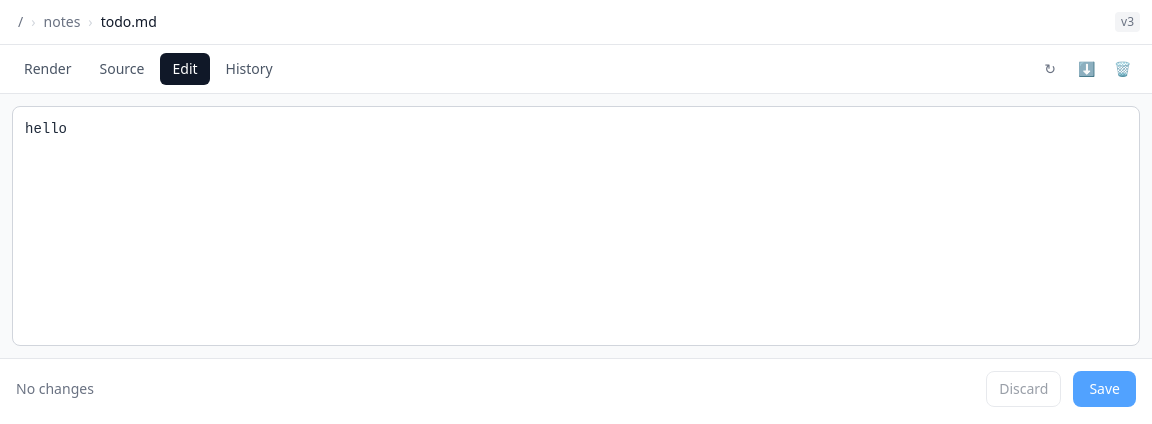
Scenario: VfsFilePanel › editing › saves, reloads and returns to the rendered view
Replace the text in the text box named "File content" with "saved text" at (576, 226), box 12,106 -> 1140,346
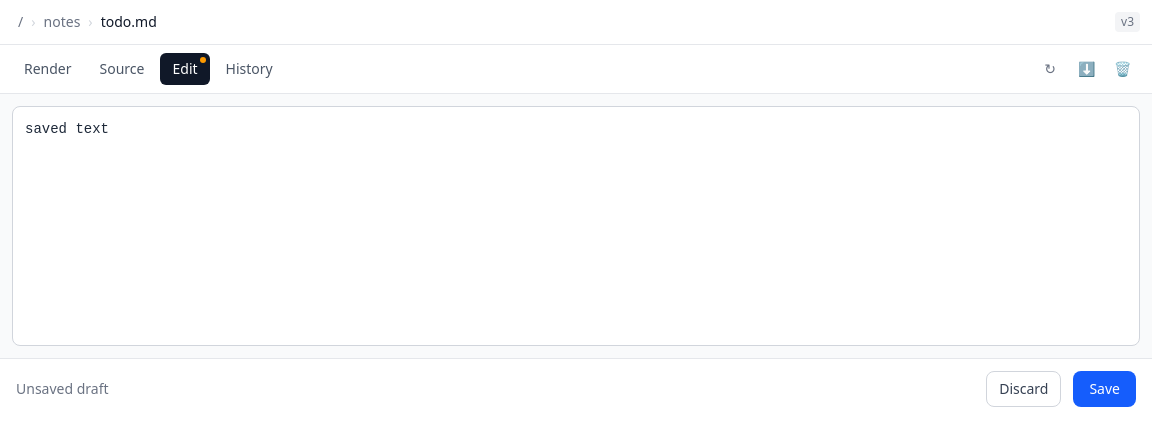
Click the button "Save" at (1105, 389), box 1073,371 -> 1136,407
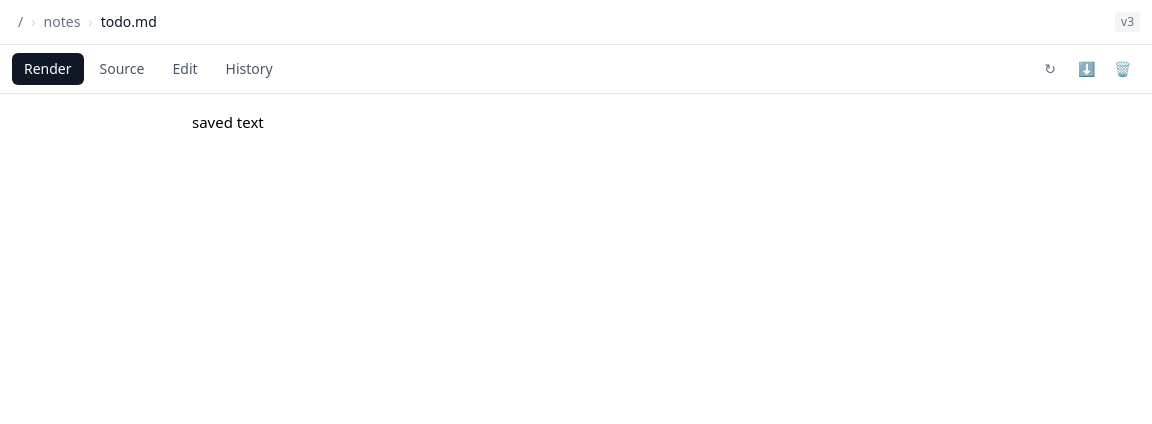
Expected: the text "saved text" is shown, 192,112 -> 264,132
